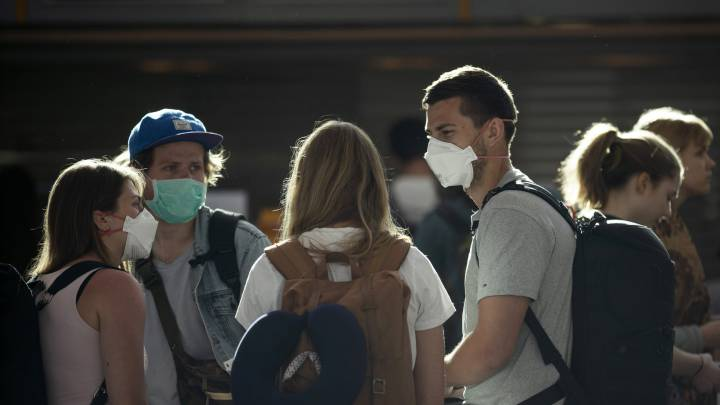barbijo: (420, 130, 485, 197), (141, 165, 208, 223)
